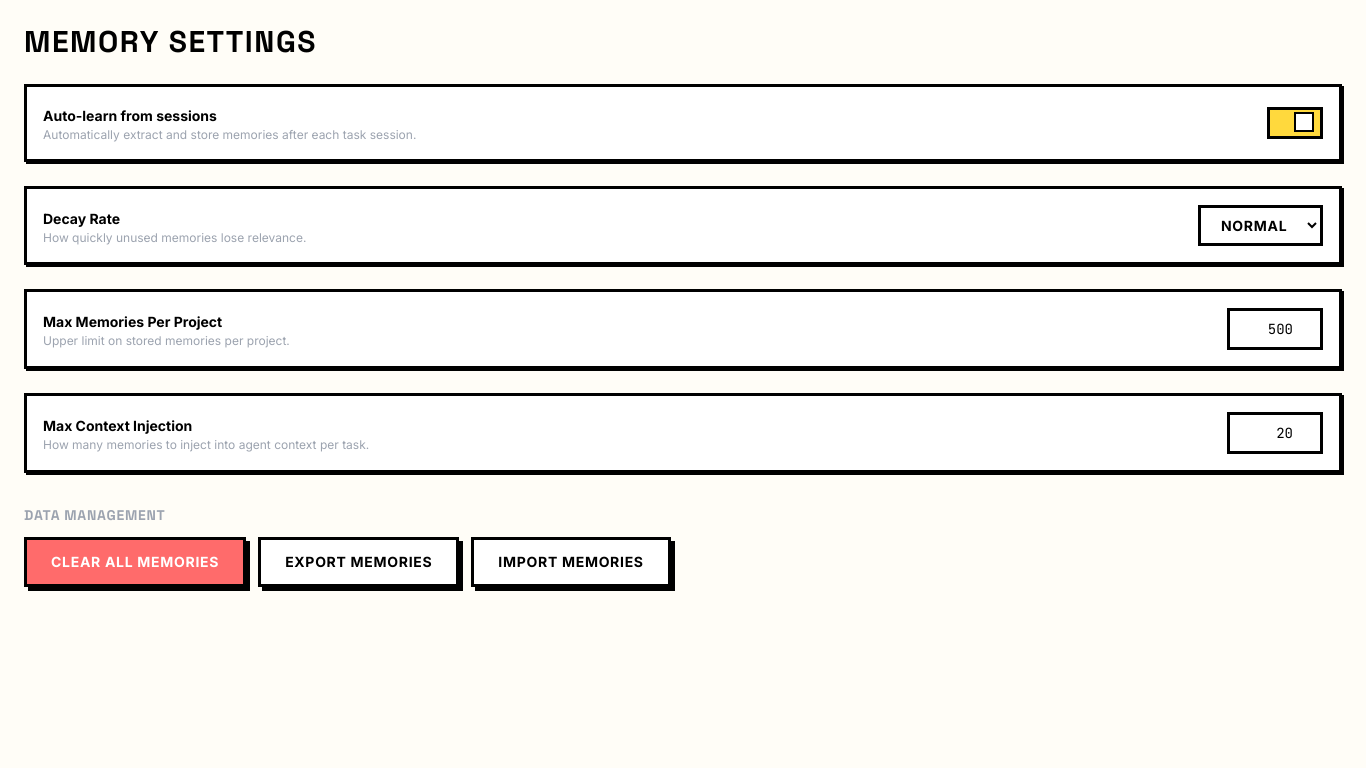
Scenario: MemorySettings › shows confirmation when clear all is clicked
Click the button with test id "clear-all-button" at (135, 562), box [24,537,246,587]
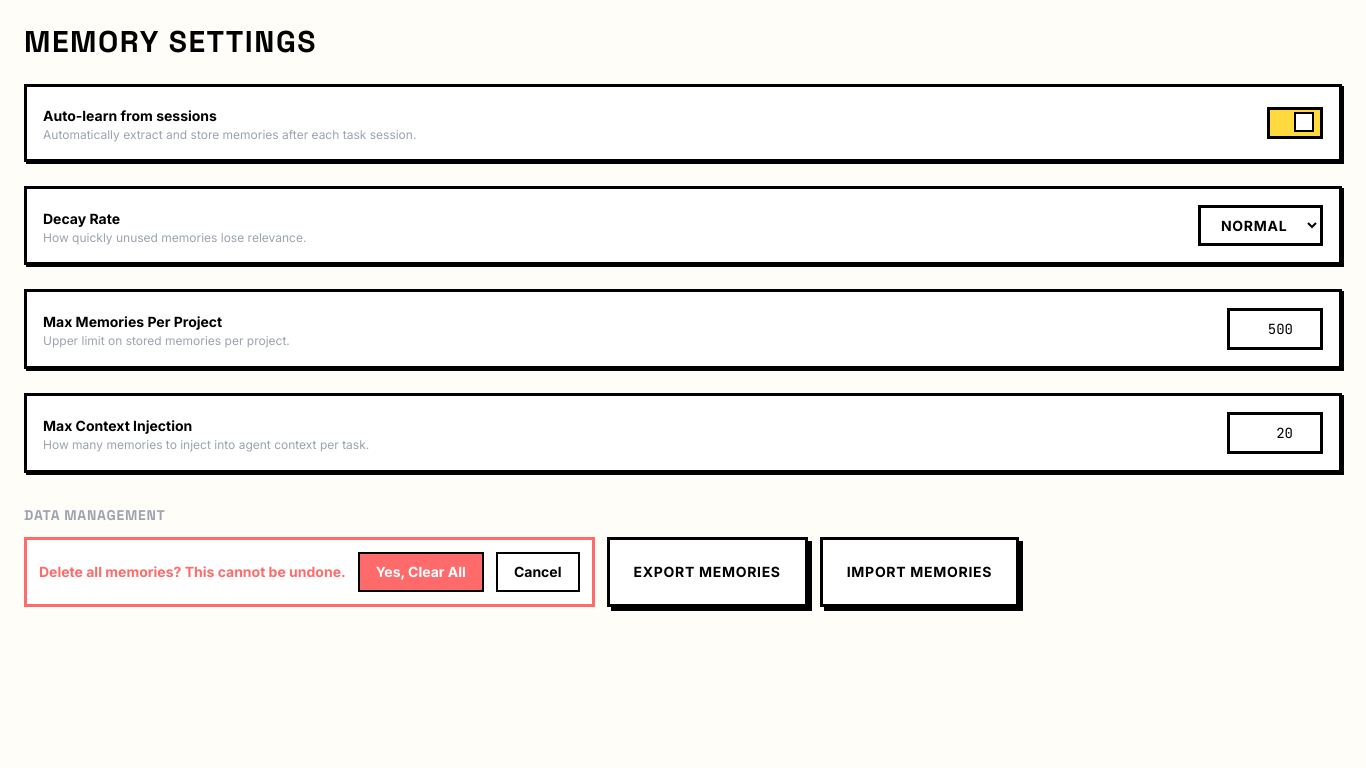
Result: the element with test id "clear-confirm" is shown at [24,537,594,607]
Result: the text "Delete all memories? This cannot be undone." is shown at [39,562,346,582]
